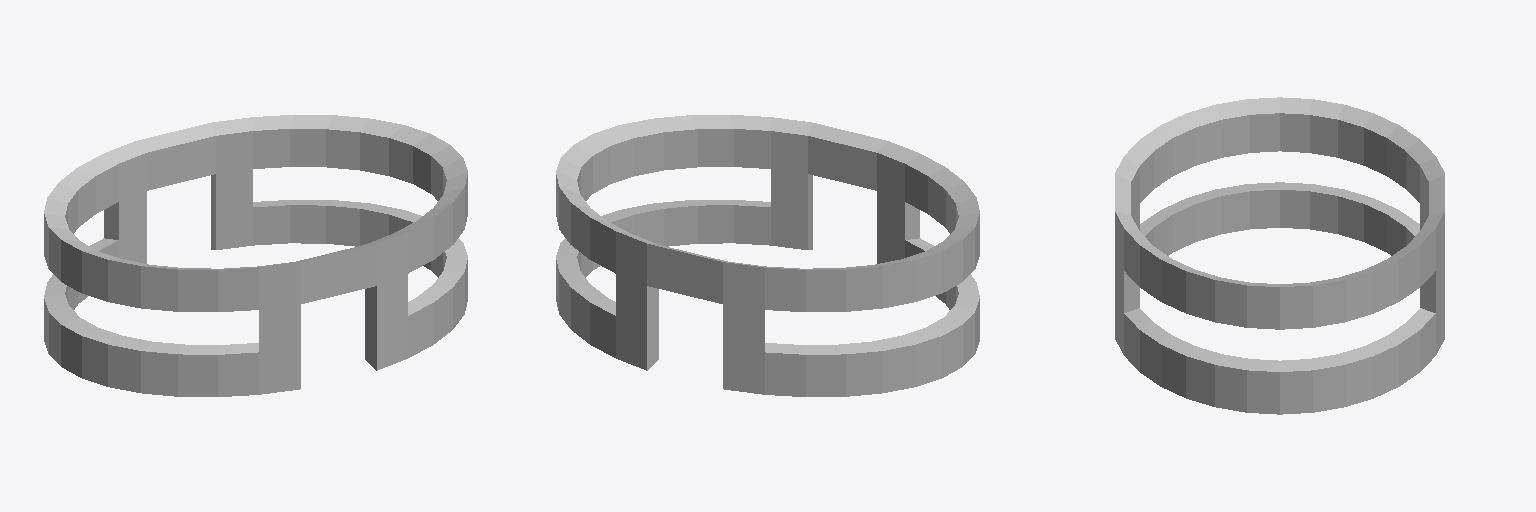
File: outpost.obj
3 views of the same model, side by side, from view 1: azimuth 30°, elevation 25°; view 2: azimuth 150°, elevation 25°; view 3: azimuth 270°, elevation 25° (orthographic).
Parts seen in each view (by area): view 1: Cylinder; view 2: Cylinder; view 3: Cylinder.
Boxes of the visible parts, box(x1,y1,x2,y2) form: Cylinder: box(44, 115, 467, 396); Cylinder: box(556, 115, 979, 396); Cylinder: box(1115, 97, 1444, 414).
Size of the model in its own units: 8 by 2.5 by 5.88.